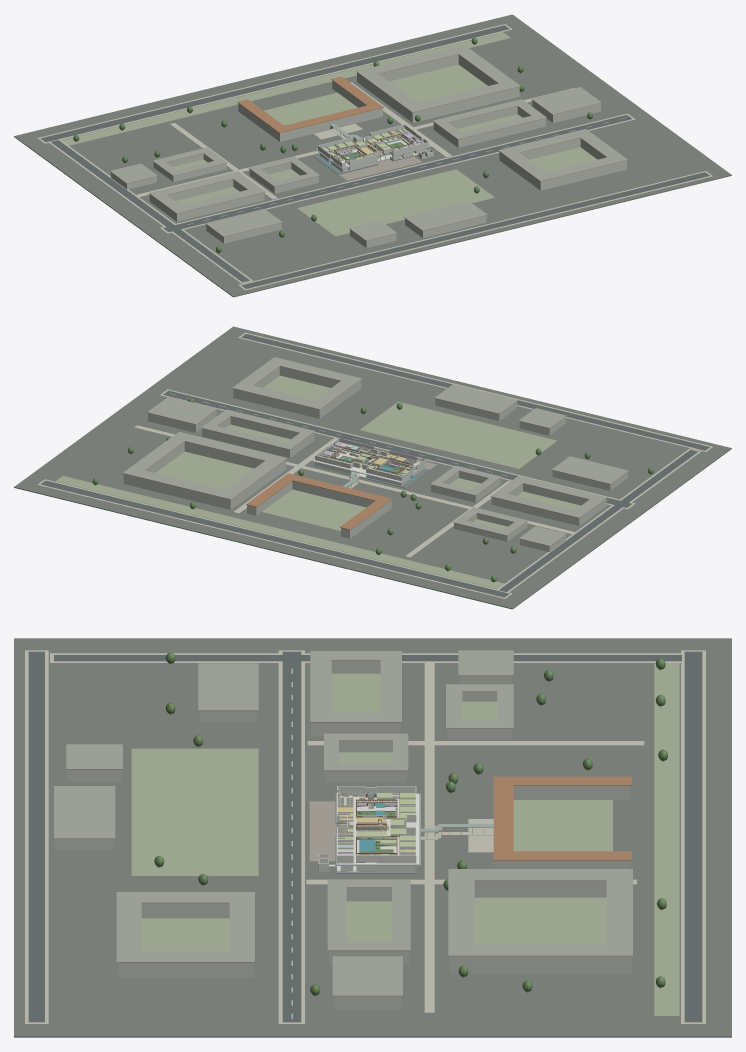
The model's file is lc3-campus.glb.
3 renders of one model, top to bottom at view 1: azimuth 30°, elevation 25°; view 2: azimuth 150°, elevation 25°; view 3: azimuth 270°, elevation 25°, orthographic. The views are drawn at different scales.
Visible parts, largest first — view 1: Surrounding_Buildings, Site_Ground, LC3_Floor_2.002, LC3_Floor_1.002; view 2: Surrounding_Buildings, Site_Ground, LC3_Floor_2.002, LC3_Floor_1.002; view 3: Surrounding_Buildings, Site_Ground, LC3_Floor_2.002, LC3_Floor_1.002, Covered_Link.
Boxes of the visible parts, x1,y1,x2,y2 form: Surrounding_Buildings: [37, 24, 712, 290]; Site_Ground: [14, 14, 731, 297]; LC3_Floor_2.002: [315, 124, 431, 168]; LC3_Floor_1.002: [313, 136, 426, 174]; Surrounding_Buildings: [37, 332, 712, 598]; Site_Ground: [14, 326, 731, 609]; LC3_Floor_2.002: [311, 438, 426, 482]; LC3_Floor_1.002: [313, 450, 429, 488]; Surrounding_Buildings: [25, 650, 705, 1024]; Site_Ground: [14, 638, 731, 1037]; LC3_Floor_2.002: [335, 786, 420, 865]; LC3_Floor_1.002: [336, 798, 416, 873]; Covered_Link: [421, 824, 493, 839].
Size of the model in its own units: 315 by 7.18 by 240.
